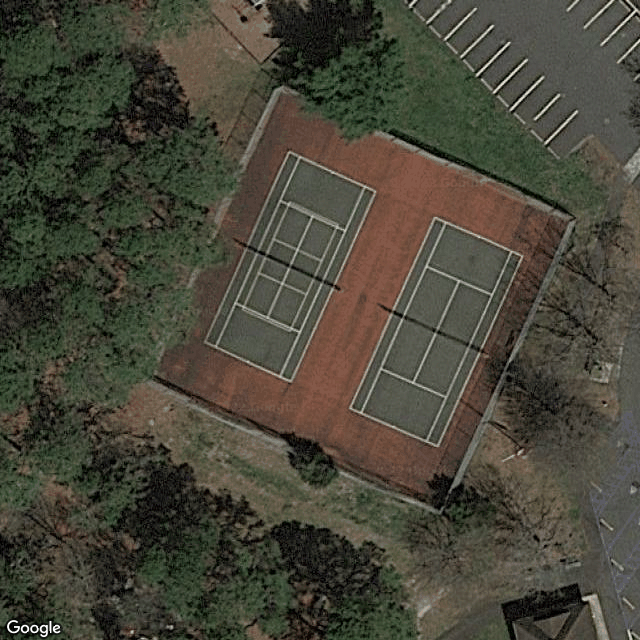Court: (349, 215, 525, 449), (203, 151, 379, 384)
